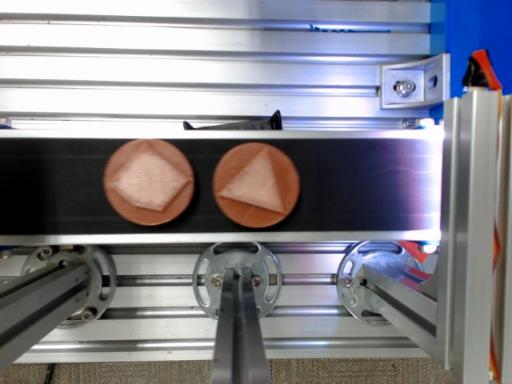Brown_Waper: (103, 140, 194, 225), (213, 142, 299, 228)
